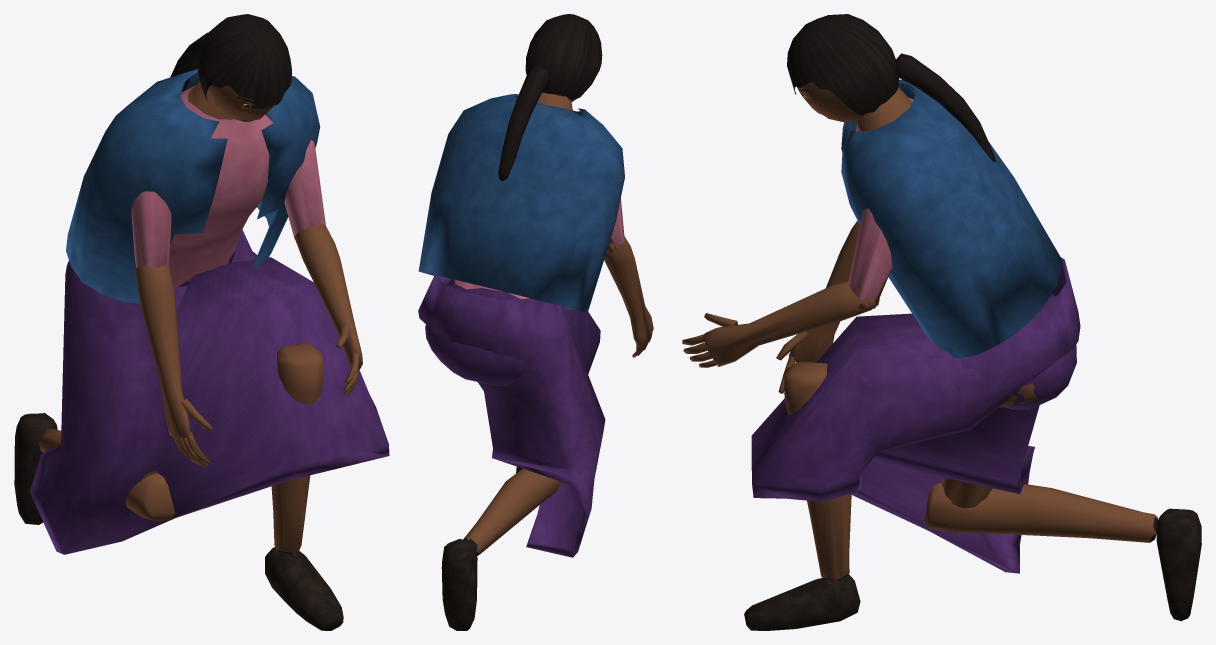
Rendered from persona_mujer_agachada_lod.obj.
3 renders of one model, left to right at view 1: azimuth 30°, elevation 25°; view 2: azimuth 150°, elevation 25°; view 3: azimuth 270°, elevation 25°, orthographic. The views are drawn at different scales.
Visible parts, largest first — view 1: persona_mujer_agachada; view 2: persona_mujer_agachada; view 3: persona_mujer_agachada.
Part boxes in pixels (x1,y1,x2,y2): persona_mujer_agachada: (14, 14, 389, 630); persona_mujer_agachada: (418, 14, 653, 630); persona_mujer_agachada: (682, 14, 1201, 630).
Size of the model in its own units: 0.5301 by 1.29 by 0.9779.
12 materials, 12 textured.
